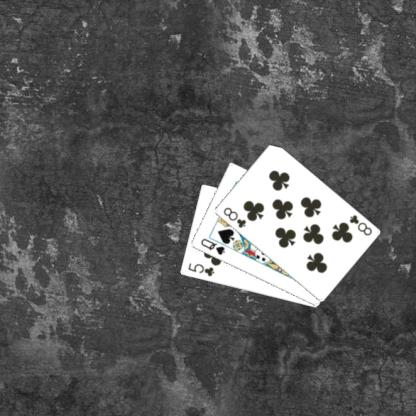5C: (185, 260, 215, 278)
8C: (220, 204, 248, 230), (346, 212, 374, 237)
QS: (198, 236, 226, 256)
